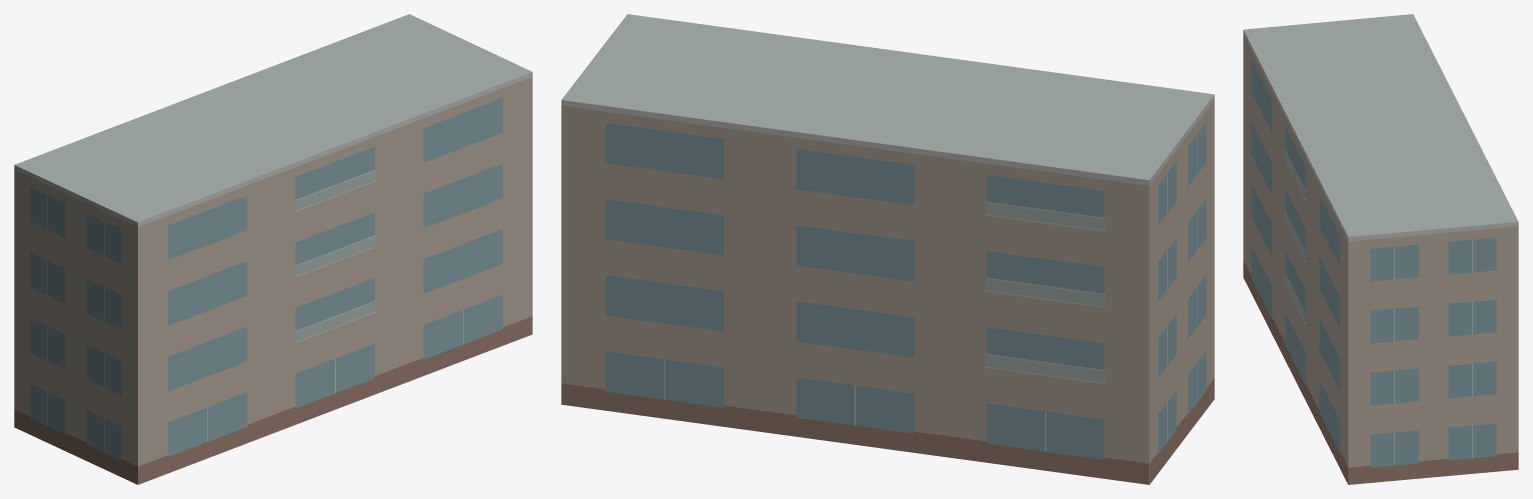
The model's file is survey-upis-32597423.glb.
The picture shows the model from 3 angles, left to right: view 1: azimuth 30°, elevation 25°; view 2: azimuth 150°, elevation 25°; view 3: azimuth 270°, elevation 25°; orthographic projection. The views are drawn at different scales.
Visible parts, largest first — view 1: survey-upis-32597423.tmp; view 2: survey-upis-32597423.tmp; view 3: survey-upis-32597423.tmp.
Part boxes in pixels (x1,y1,x2,y2): survey-upis-32597423.tmp: (14, 14, 532, 484); survey-upis-32597423.tmp: (561, 14, 1214, 484); survey-upis-32597423.tmp: (1243, 14, 1518, 484).
Size of the model in its own units: 25.68 by 13.3 by 13.4.
